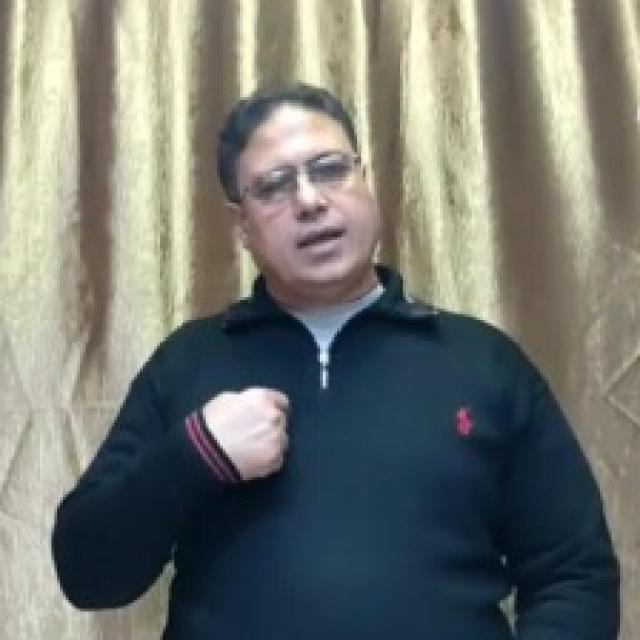me: (188, 379, 298, 488)
